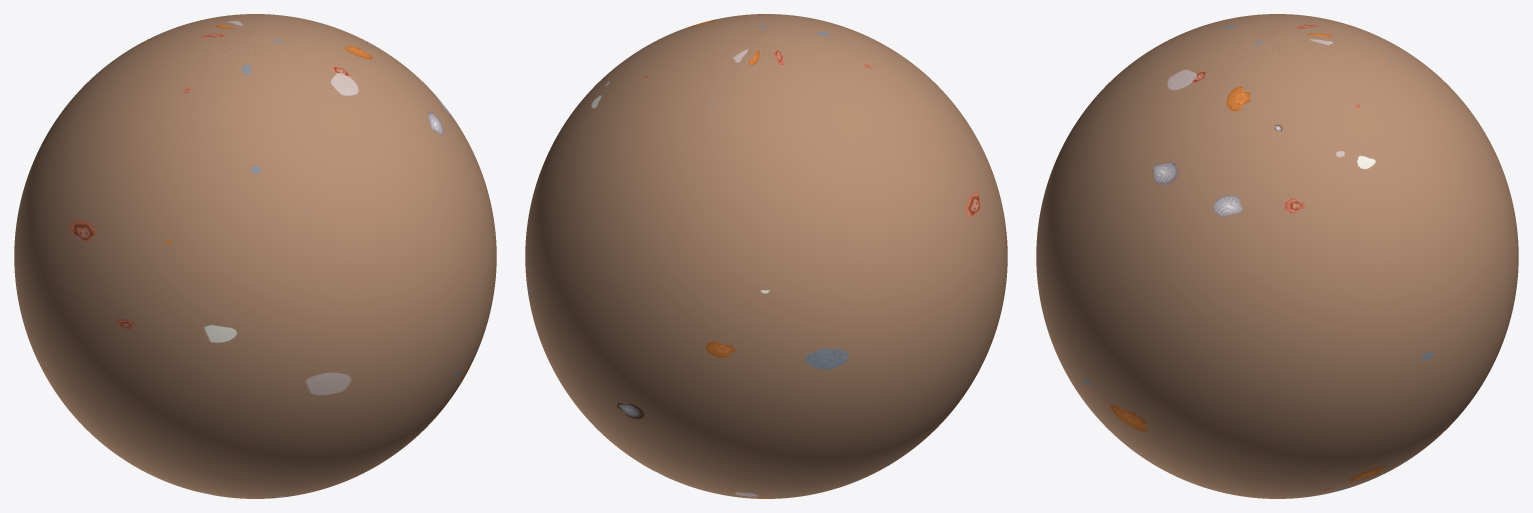
Rendered from stylized_beach_sand.glb.
The picture shows the model from 3 angles, left to right: view 1: azimuth 30°, elevation 25°; view 2: azimuth 150°, elevation 25°; view 3: azimuth 270°, elevation 25°; orthographic projection.
Visible parts, largest first — view 1: Sphere; view 2: Sphere; view 3: Sphere.
Boxes of the visible parts, left/top/right/bottom form: Sphere: left=14, top=14, right=496, bottom=498; Sphere: left=525, top=14, right=1007, bottom=498; Sphere: left=1036, top=14, right=1518, bottom=498.
Size of the model in its own units: 197 by 200 by 197.
Materials: 1 (1 with a texture image).
